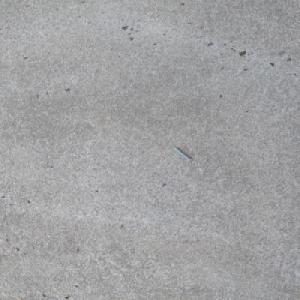Screw: (172, 146, 193, 161)
